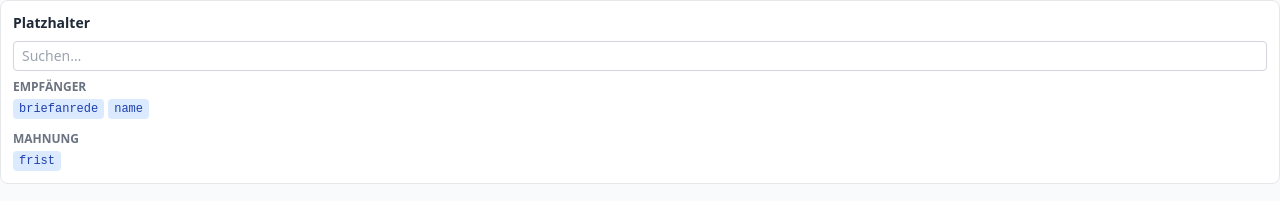
Test: PlatzhalterSeitenleiste › filtert per Suche nach Name und Beschreibung
The width and height of the screenshot is (1280, 201).
In the search field named "Platzhalter suchen": [640, 56] box [13, 41, 1267, 71], type "zahlungsfrist"
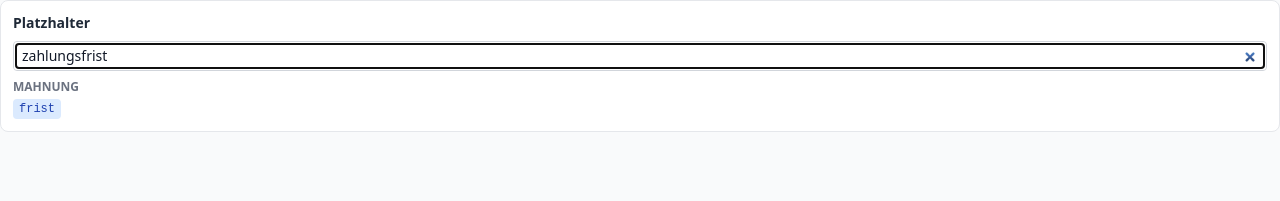
Expected: the button "frist" is shown, [13, 99, 61, 119]
Expected: the button "briefanrede" is gone
